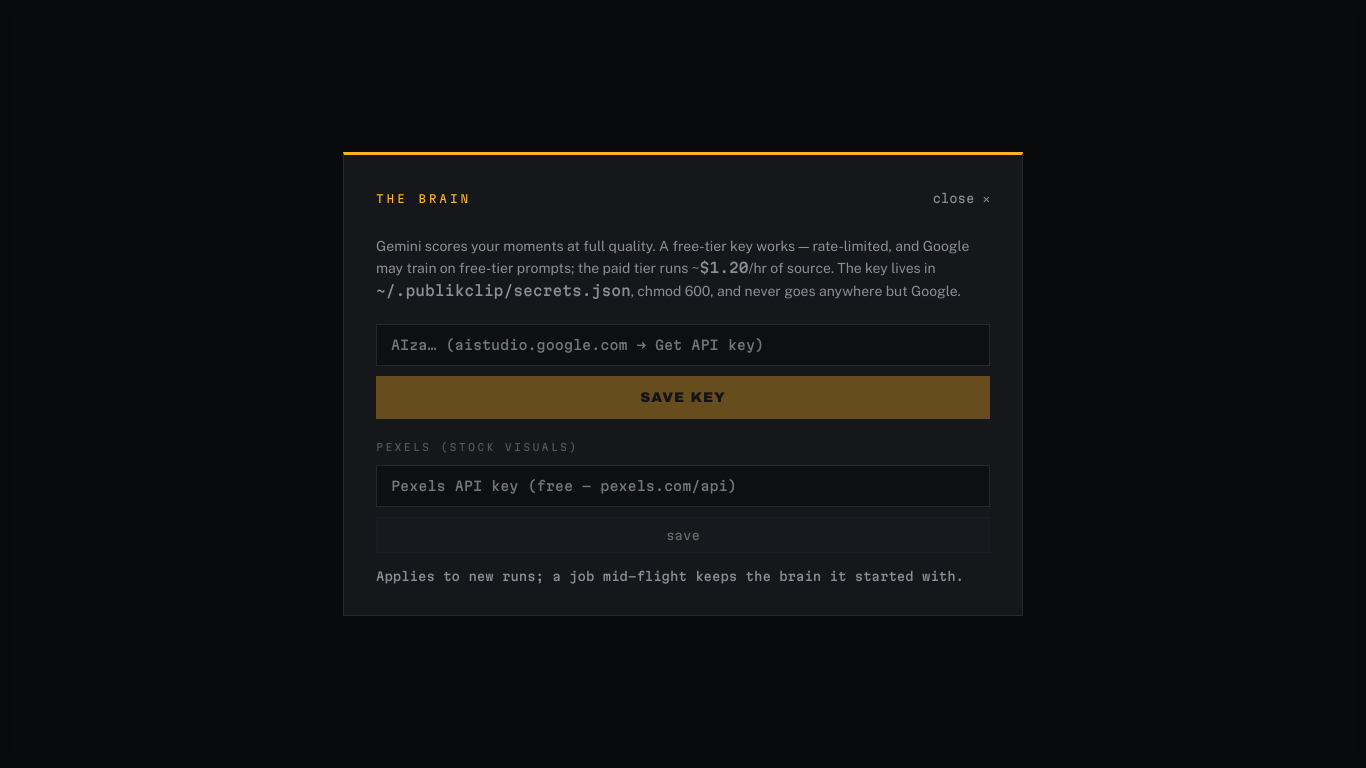
Test case: KeyModal (F6) › an unverified key reads SAVED and says the check was impossible
Type "AIza-test" into the password field with placeholder "AIza… (aistudio.google.com → Get API key)" at [683, 345], box [376, 324, 990, 366]
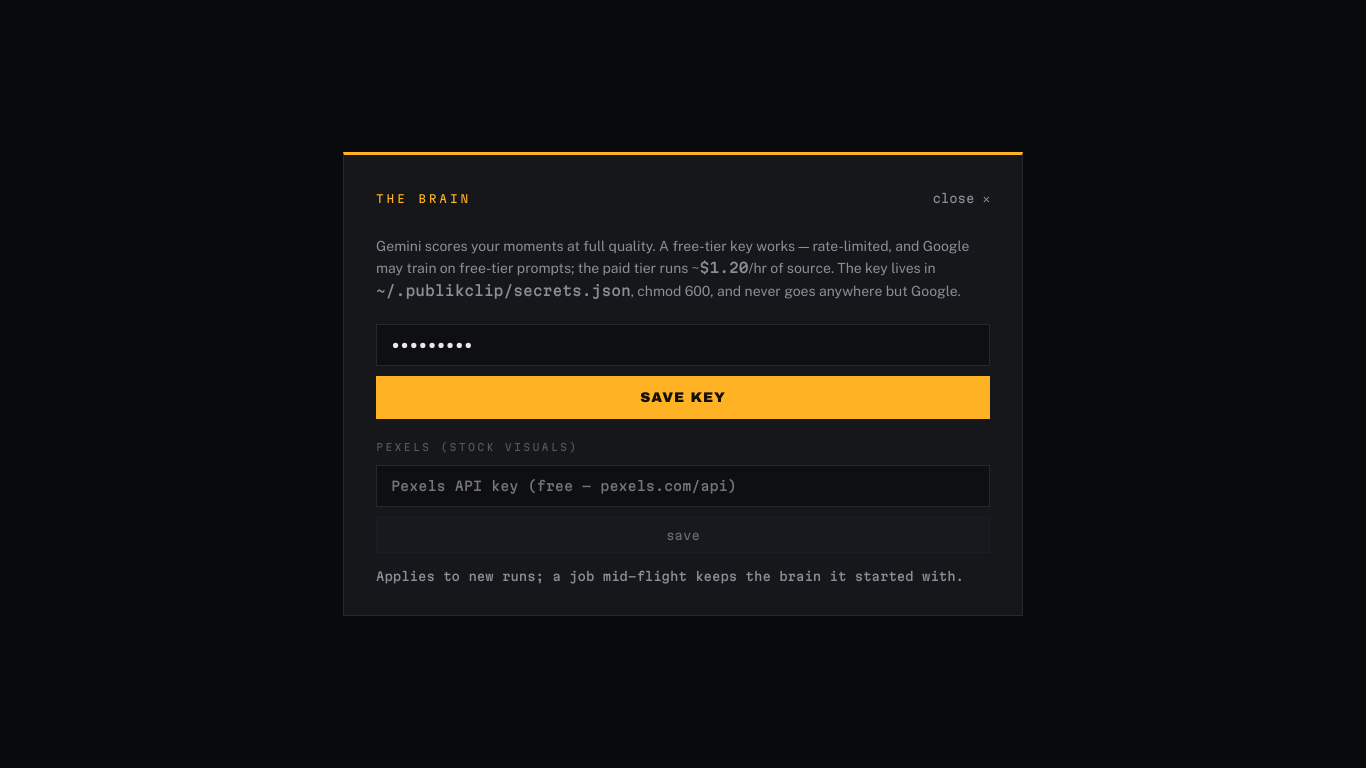
Click the button "SAVE KEY" at [683, 398], box [376, 376, 990, 419]
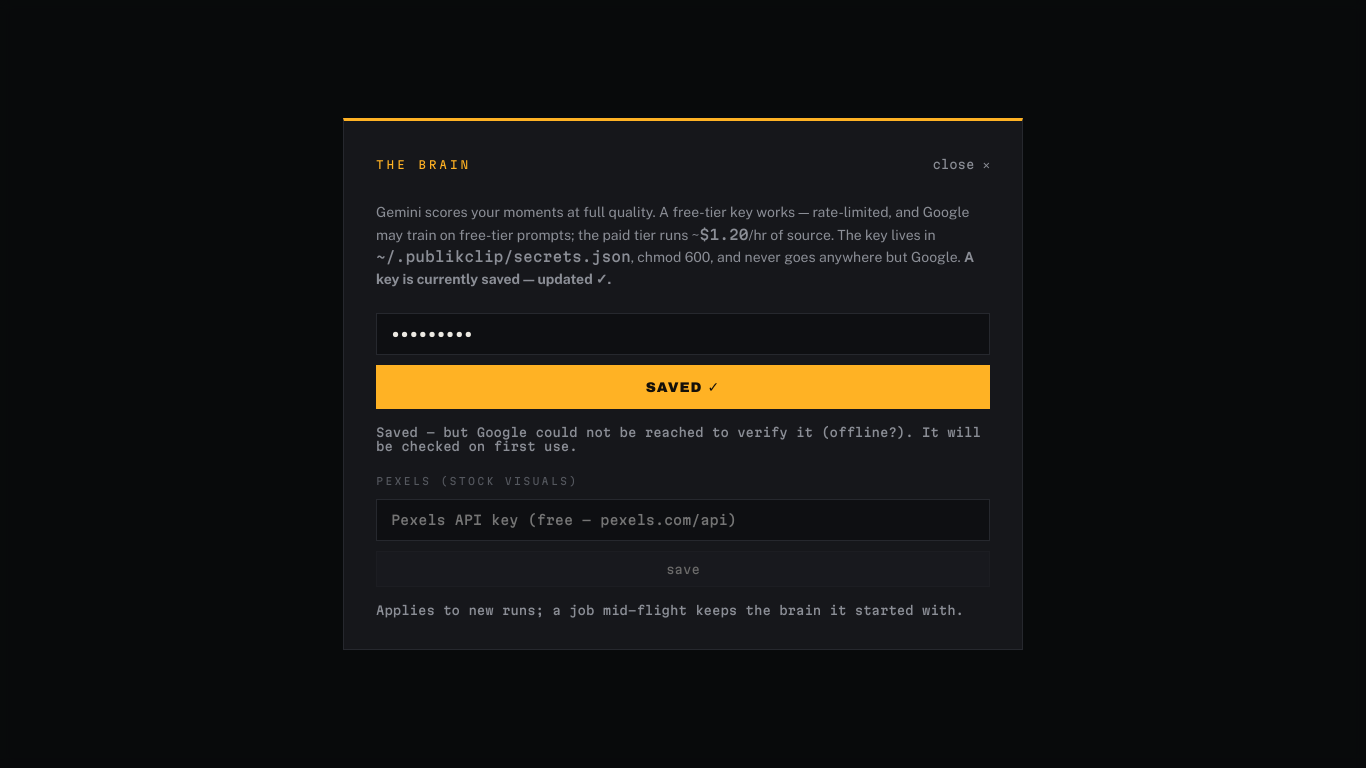
Expected: the button "SAVE KEY" is gone
Expected: the button "SAVED ✓" is shown, [376, 365, 990, 409]
Expected: the text "checked on first use" is shown, [376, 425, 981, 453]
